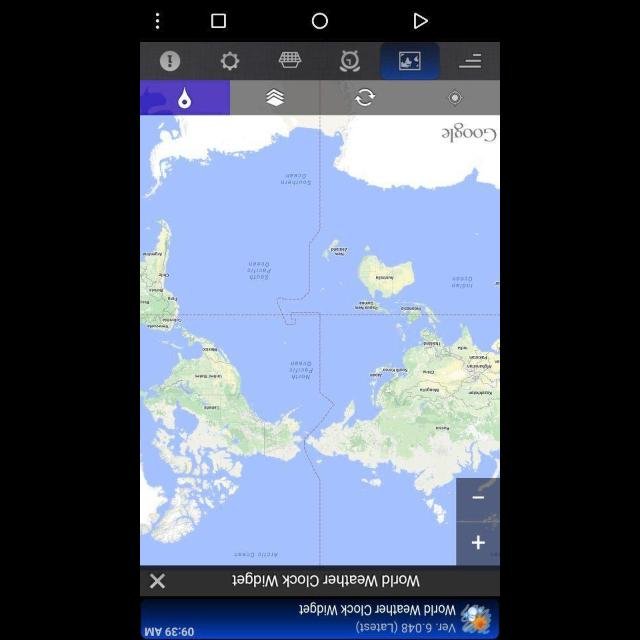icon: (340, 48, 360, 72), (458, 50, 482, 68), (278, 53, 304, 69), (399, 50, 419, 70), (160, 52, 180, 70), (220, 52, 238, 70), (148, 572, 166, 588), (312, 12, 328, 28), (414, 12, 428, 28), (212, 13, 226, 27), (156, 10, 160, 30)
image: (458, 602, 492, 636)
map: (142, 80, 500, 566)
panel: (142, 598, 498, 640), (140, 1, 500, 41), (140, 42, 500, 78)
text: (231, 572, 419, 586), (299, 602, 456, 616), (355, 619, 455, 633)
